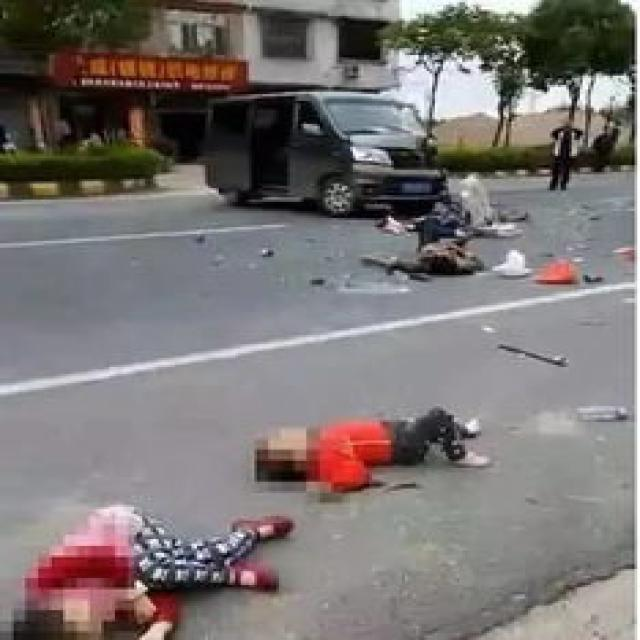Fall: (235, 386, 514, 513)
